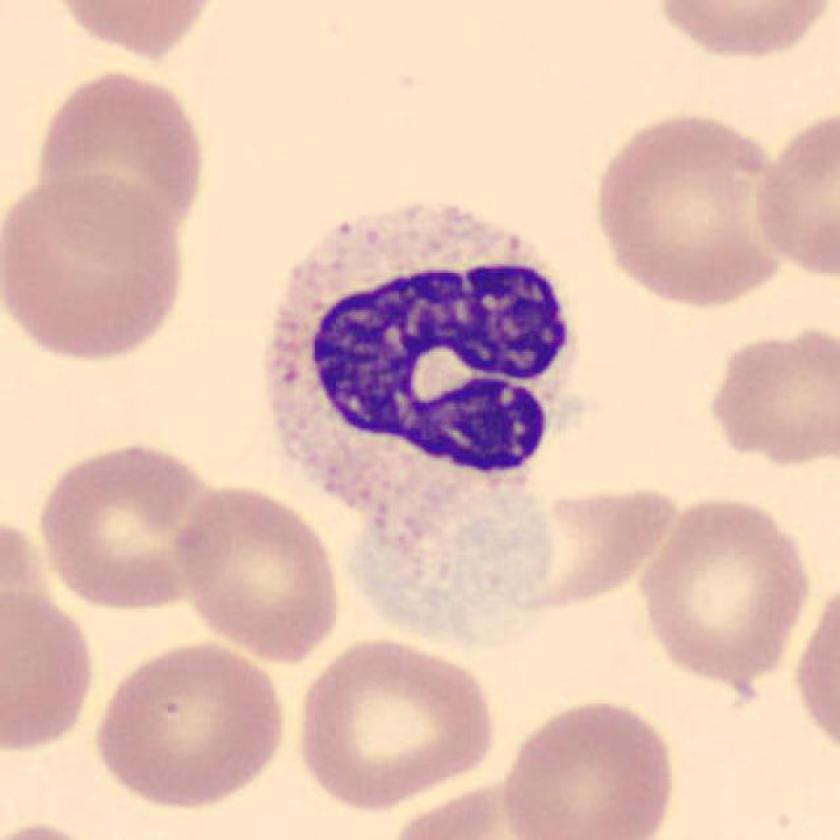neutrophil: (266, 203, 567, 652)
